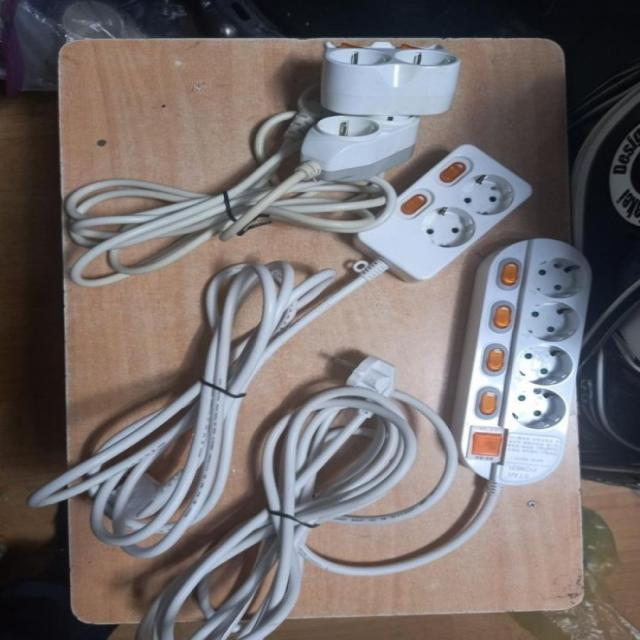typeb: (456, 238, 596, 495), (376, 136, 554, 252)
